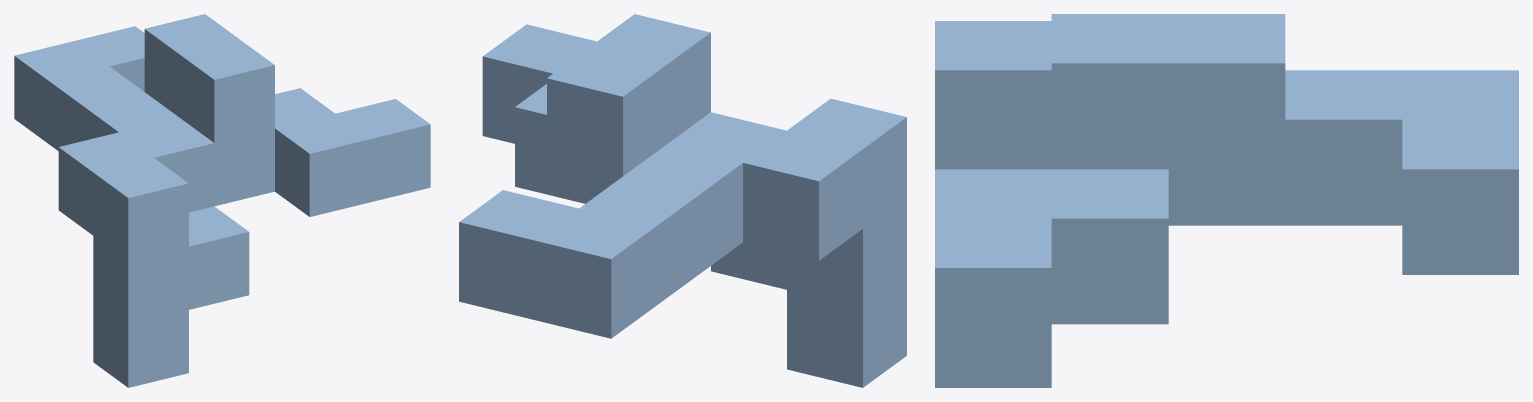
The picture shows the model from 3 angles, left to right: view 1: azimuth 30°, elevation 25°; view 2: azimuth 150°, elevation 25°; view 3: azimuth 270°, elevation 25°; orthographic projection. The views are drawn at different scales.
Visible parts, largest first — view 1: _changes (2).014; view 2: _changes (2).014; view 3: _changes (2).014.
Part boxes in pixels (x1,y1,x2,y2): _changes (2).014: (14, 14, 430, 387); _changes (2).014: (459, 14, 906, 387); _changes (2).014: (935, 14, 1518, 387).
Bounding box in the file's own units: 0.1999 × 0.1599 × 0.1999.
